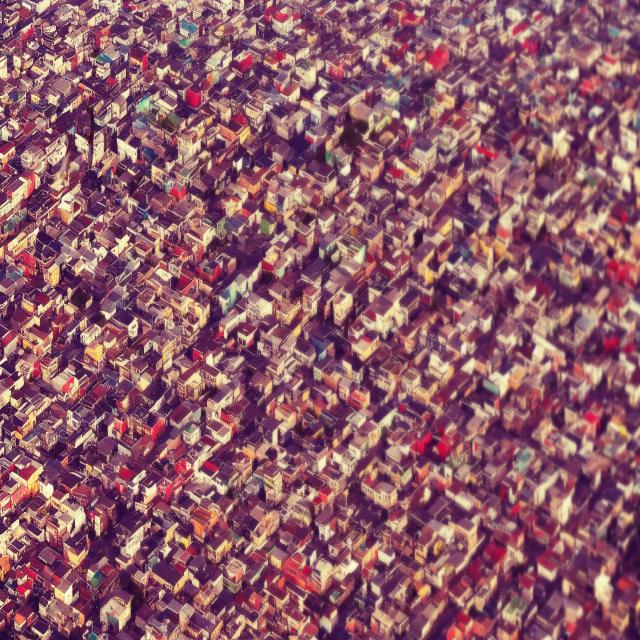airplane: (82, 102, 95, 171), (60, 128, 74, 183)
